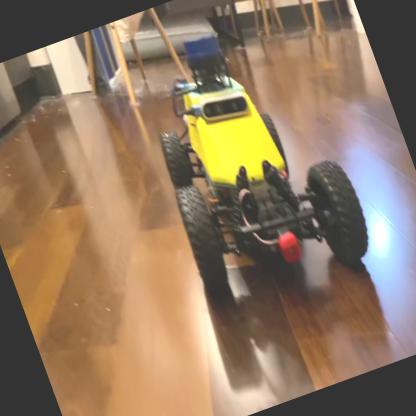mushr_car: (117, 0, 384, 321)
